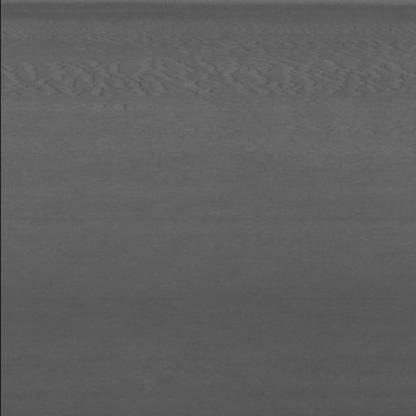silk_spot: (23, 35, 402, 118)
